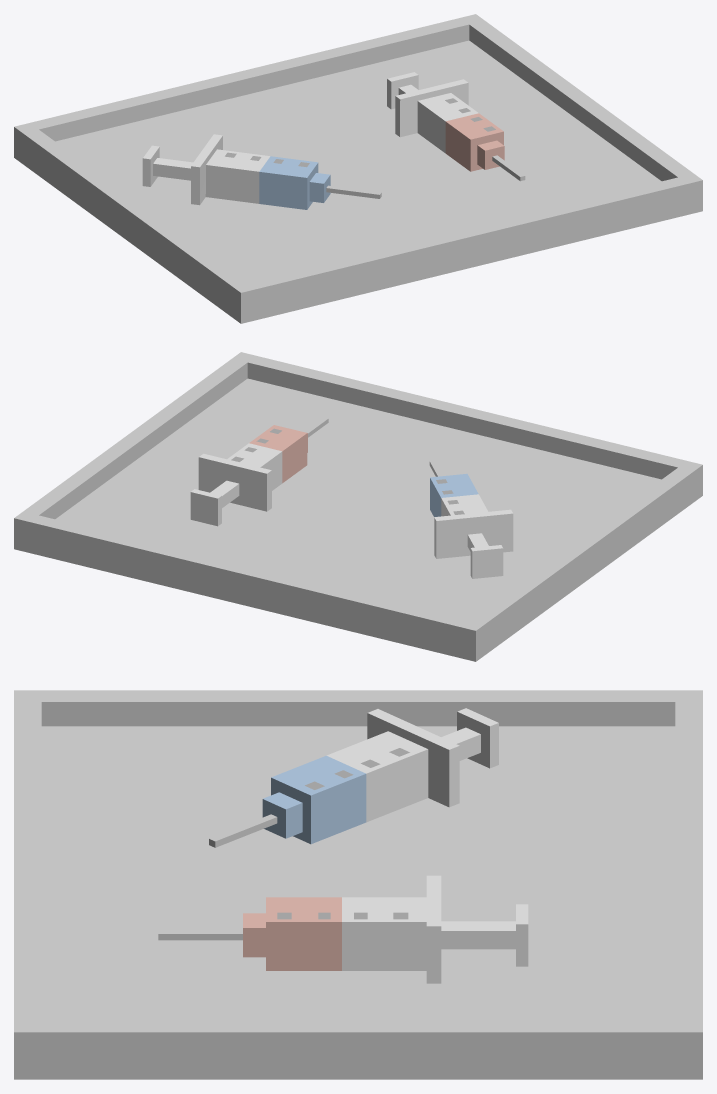
File: medicines_1.fbx
The picture shows the model from 3 angles, top to bottom: view 1: azimuth 30°, elevation 25°; view 2: azimuth 150°, elevation 25°; view 3: azimuth 270°, elevation 25°; orthographic projection. The views are drawn at different scales.
Parts seen in each view (by area): view 1: Cube_1; view 2: Cube_1; view 3: Cube_1.
Part boxes in pixels (<box>): Cube_1: <box>14,14,702,323</box>; Cube_1: <box>14,352,702,661</box>; Cube_1: <box>14,690,702,1079</box>.
Bounding box in the file's own units: 29.37 × 3.22 × 25.
